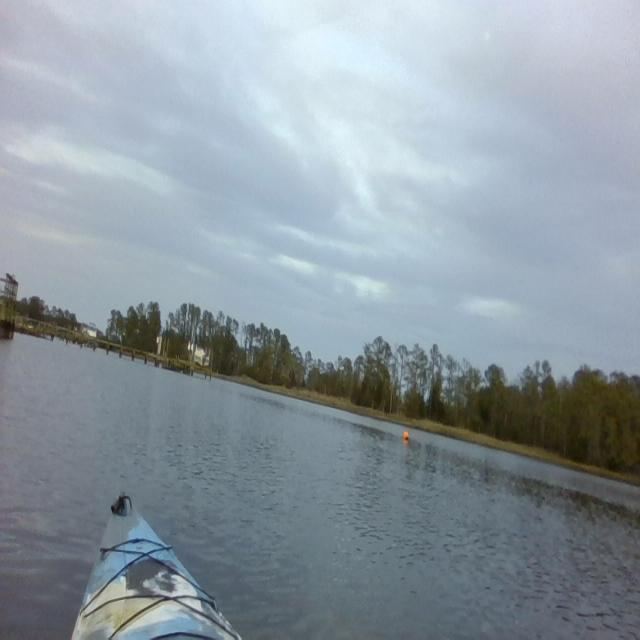Buoy: (402, 428, 410, 444)
